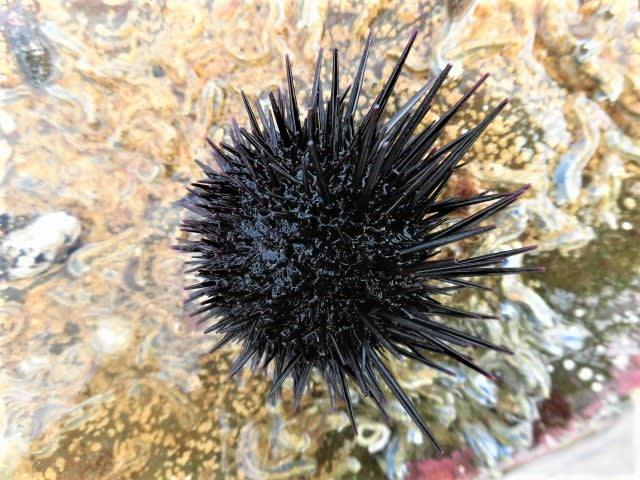urchin: (195, 51, 503, 428)
